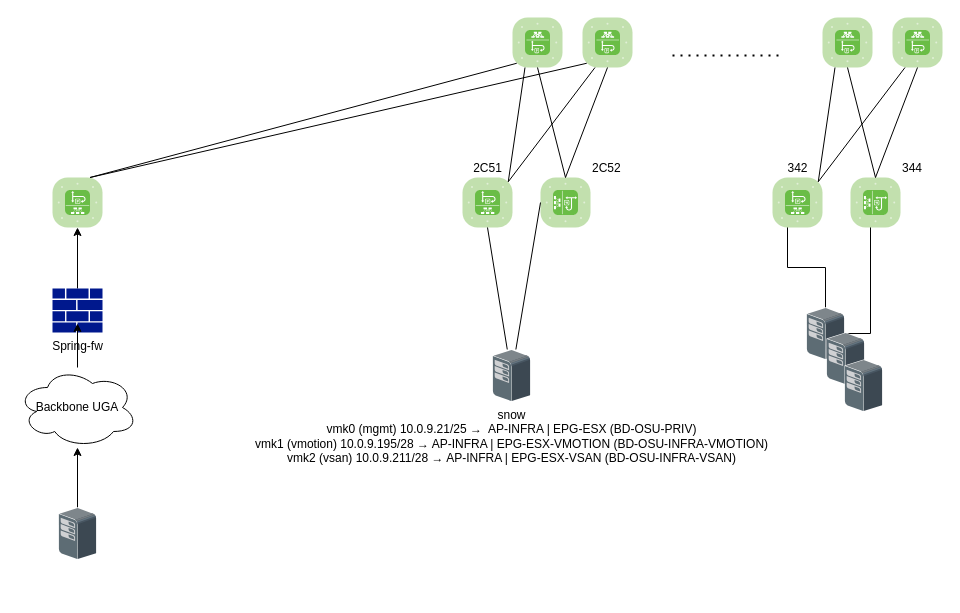
The diagram is 960 pixels wide and 613 high, and some of its shapes have lost their labels. Each missing label, with the centre of its shape:
"Border Leaf 2B50" belongs at point (77, 202).
"starkr vmk7" belongs at point (77, 533).
